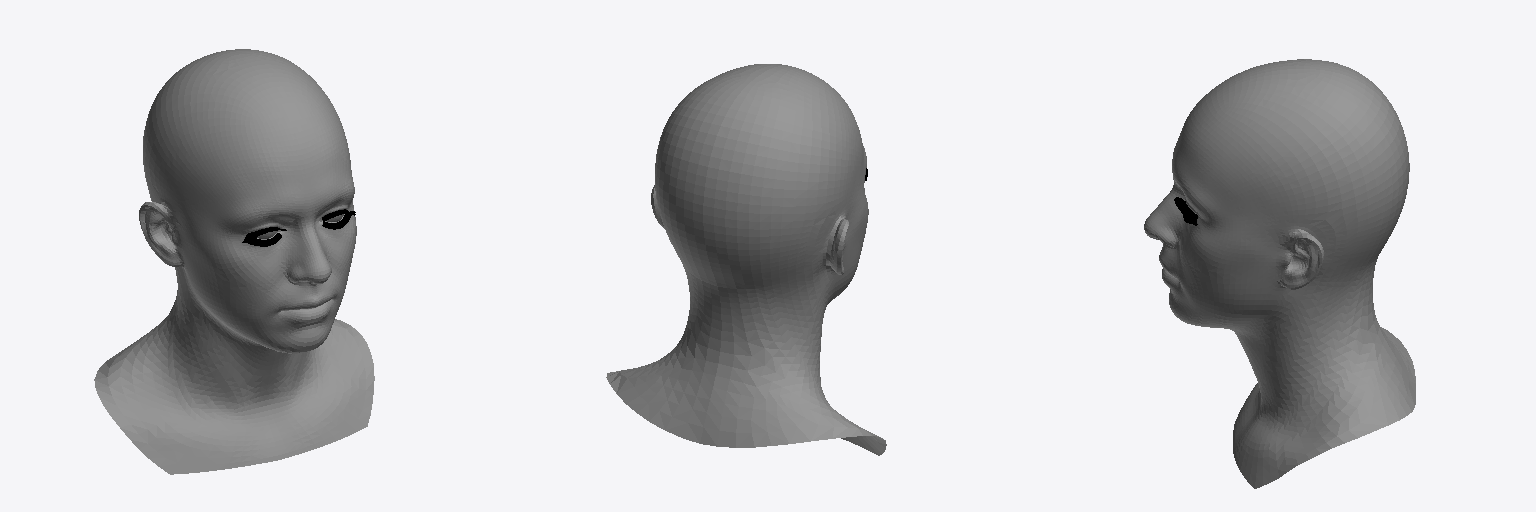
File: identity066.obj
3 views of the same model, side by side, from view 1: azimuth 30°, elevation 25°; view 2: azimuth 150°, elevation 25°; view 3: azimuth 270°, elevation 25° (orthographic).
Bounding box in the file's own units: 24.84 × 33.81 × 22.29.